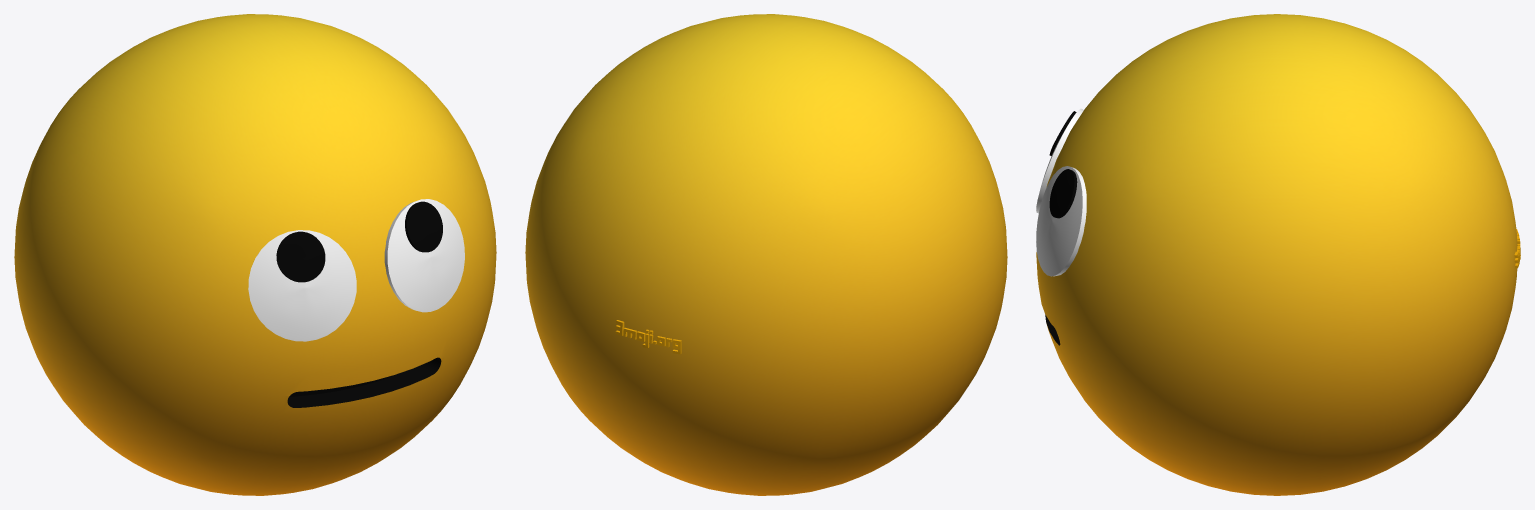
Rendered from face_with_rolling_eyes.gltf.
3 renders of one model, left to right at view 1: azimuth 30°, elevation 25°; view 2: azimuth 150°, elevation 25°; view 3: azimuth 270°, elevation 25°, orthographic.
Parts seen in each view (by area): view 1: Face with Rolling Eyes; view 2: Face with Rolling Eyes; view 3: Face with Rolling Eyes.
Part boxes in pixels (box(x1,y1,x2,y2)): Face with Rolling Eyes: box(14, 14, 496, 495); Face with Rolling Eyes: box(525, 14, 1007, 495); Face with Rolling Eyes: box(1036, 14, 1520, 495).
Size of the model in its own units: 1.69 by 1.69 by 1.7.
2 materials, 2 textured.
